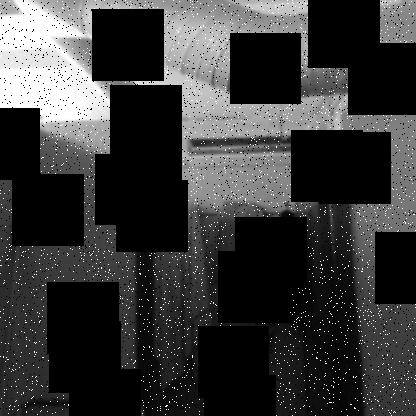Porte: (133, 132, 365, 415)
